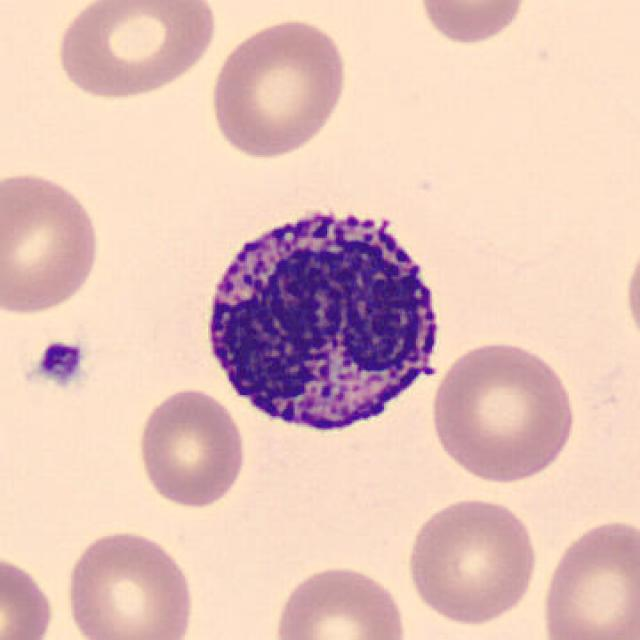Basophil: (190, 190, 457, 446)
Platelets: (34, 336, 87, 389)
RBC: (426, 335, 580, 487), (204, 14, 352, 162), (402, 492, 542, 628), (52, 0, 222, 104), (59, 525, 199, 640), (0, 166, 105, 319), (131, 384, 249, 512), (537, 515, 638, 640), (268, 560, 412, 640), (412, 0, 532, 48), (0, 548, 57, 640), (620, 226, 640, 360)
